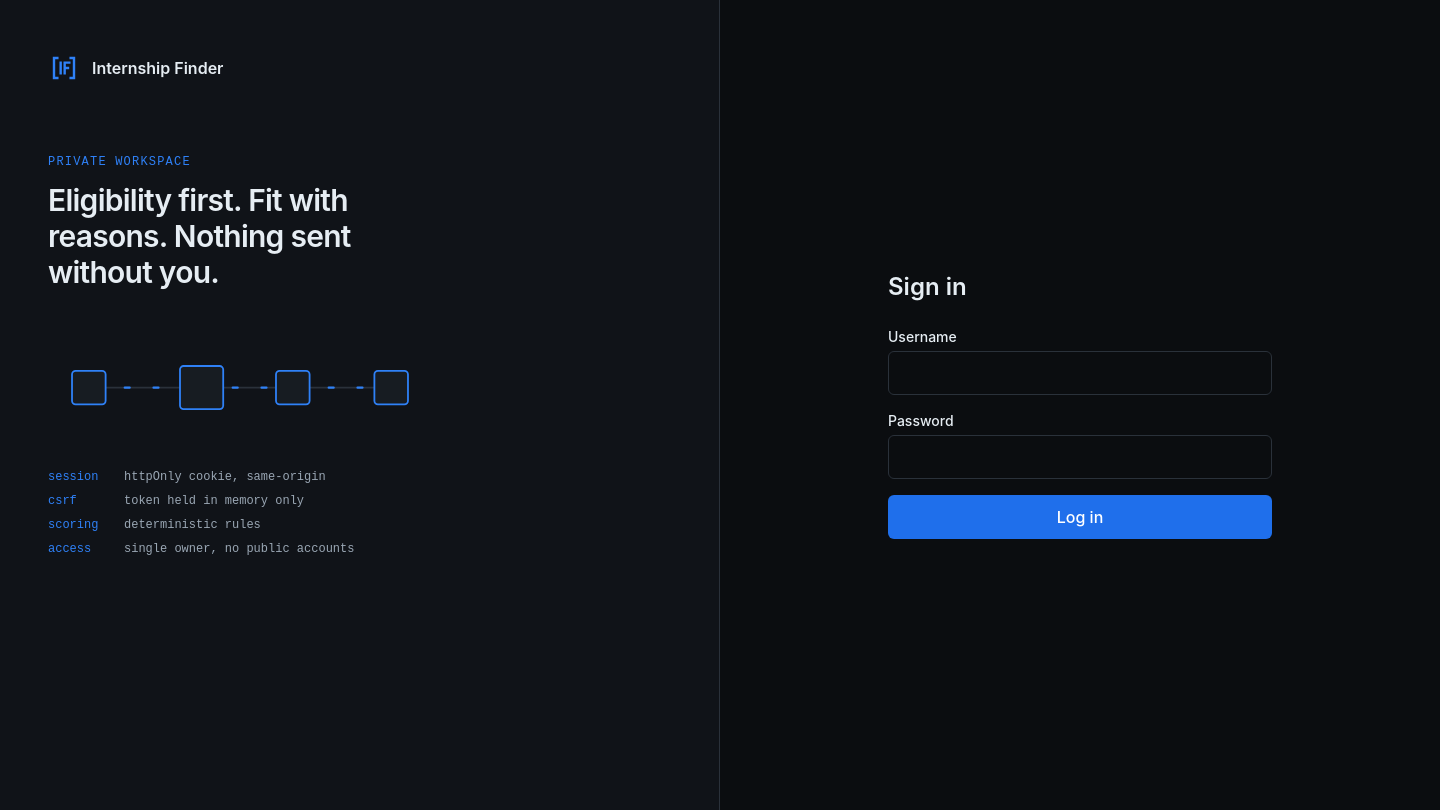
Test case: login states › explains a rate limit and keeps the form usable
This screenshot has width=1440, height=810.
Expected: the form "Log in" is shown, [888,327,1272,539]
In the field labelled "Username": [1080, 373] box [888,351,1272,395], type "synthetic-owner"
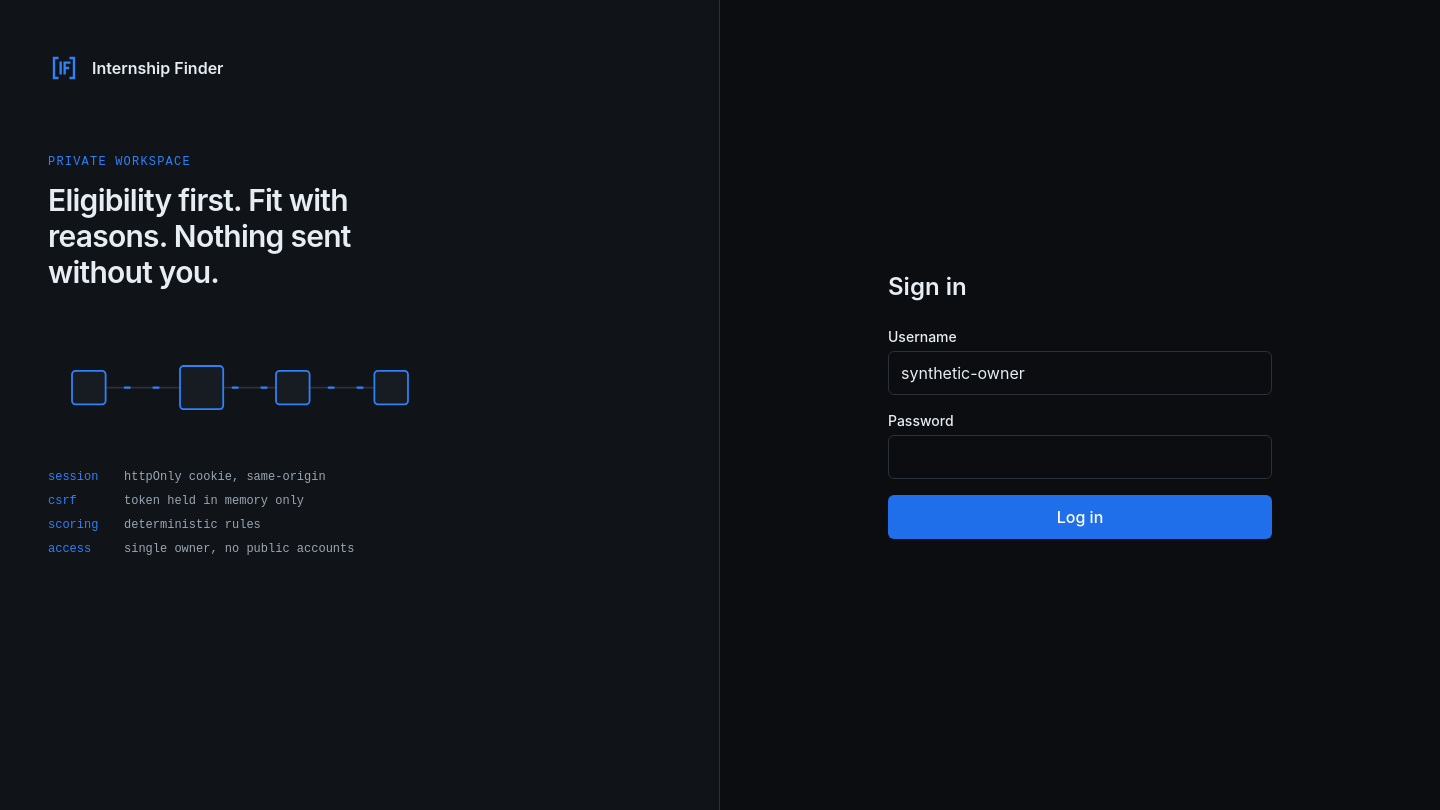
In the password field labelled "Password": [1080, 457] box [888,435,1272,479], type "pw"
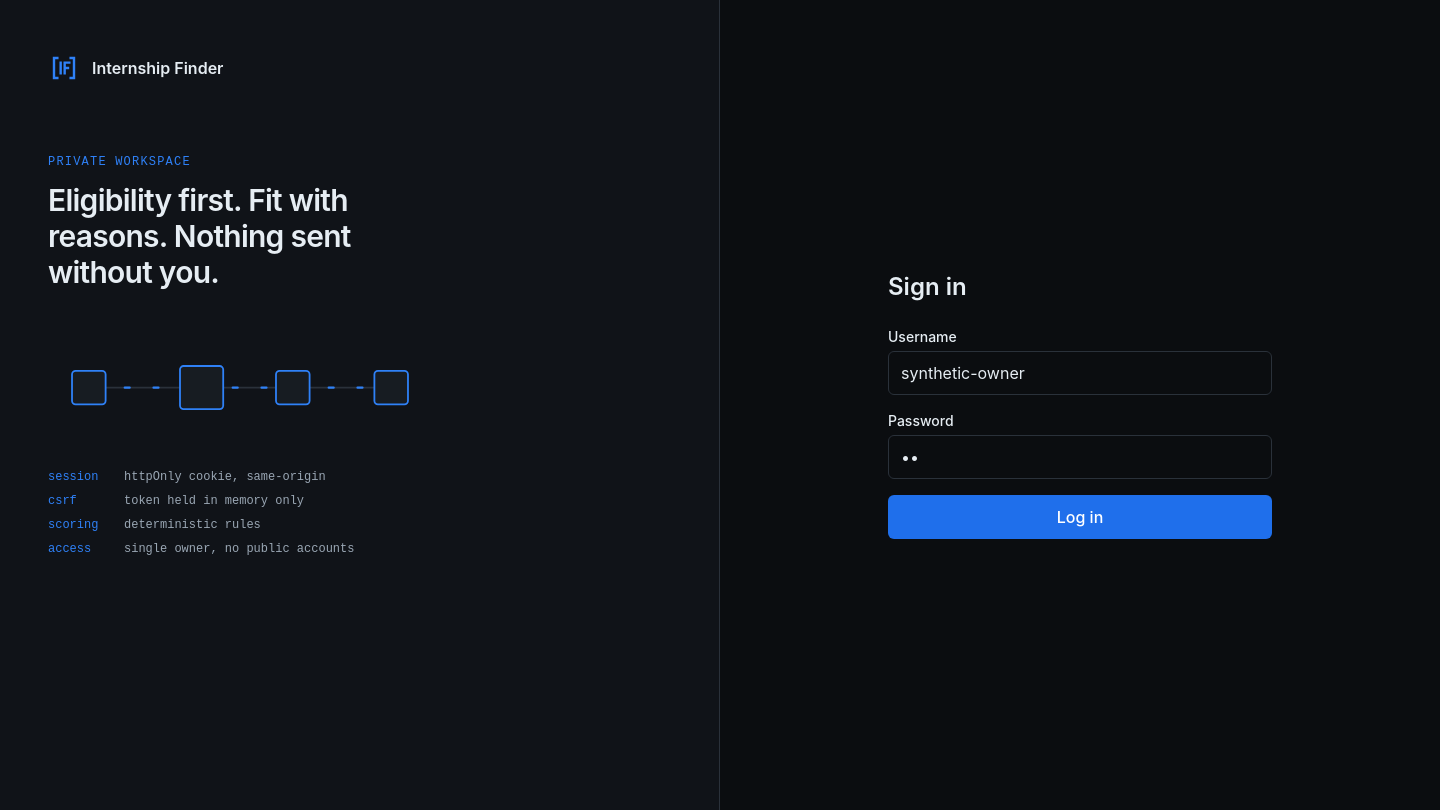
Click the button "Log in": [1080, 517] box [888,495,1272,539]
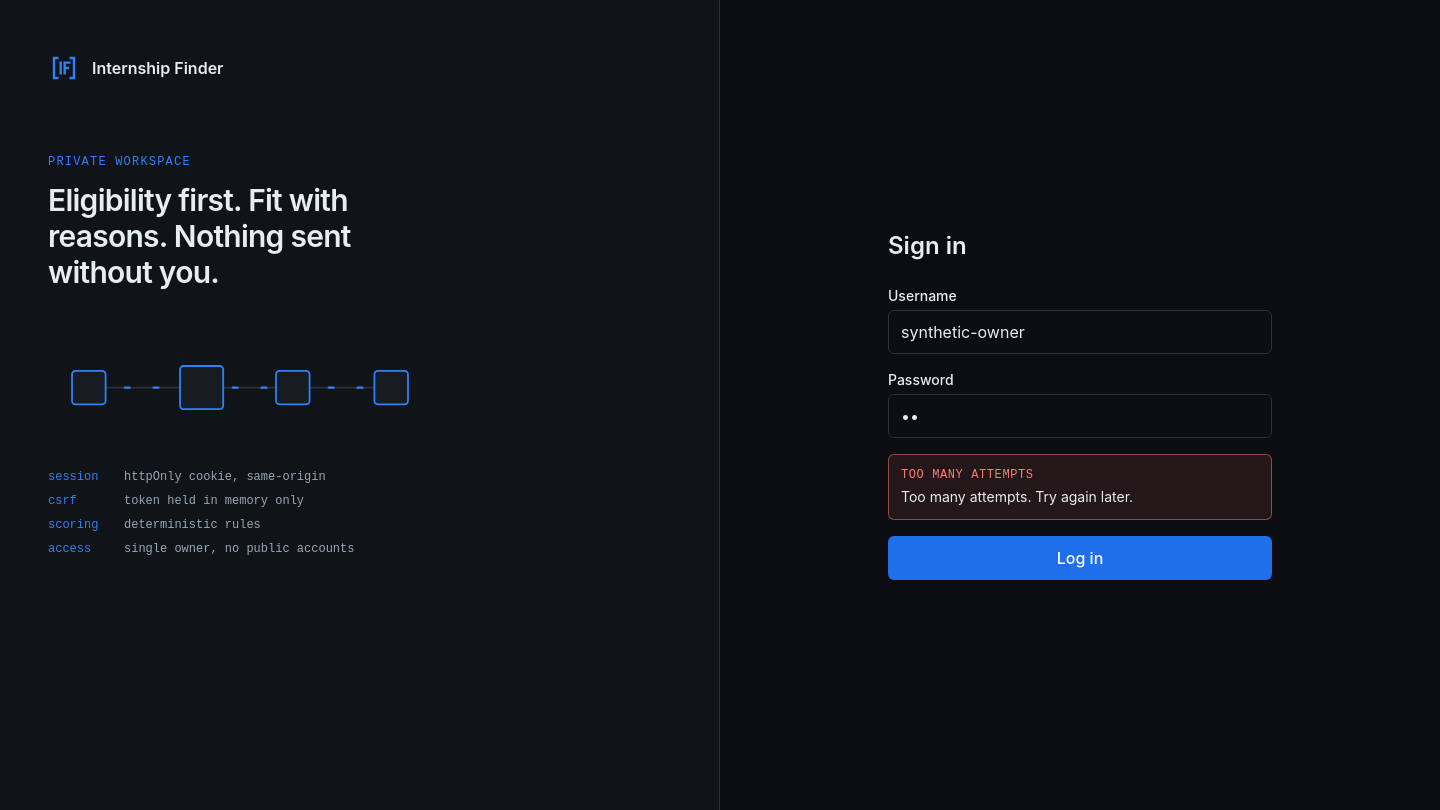
Expected: the button "Log in" is enabled, [888,536,1272,580]
Expected: the message shows "Too many attempts", [901,488,1133,505]
Expected: the message shows "Try again later.", [901,488,1133,505]
